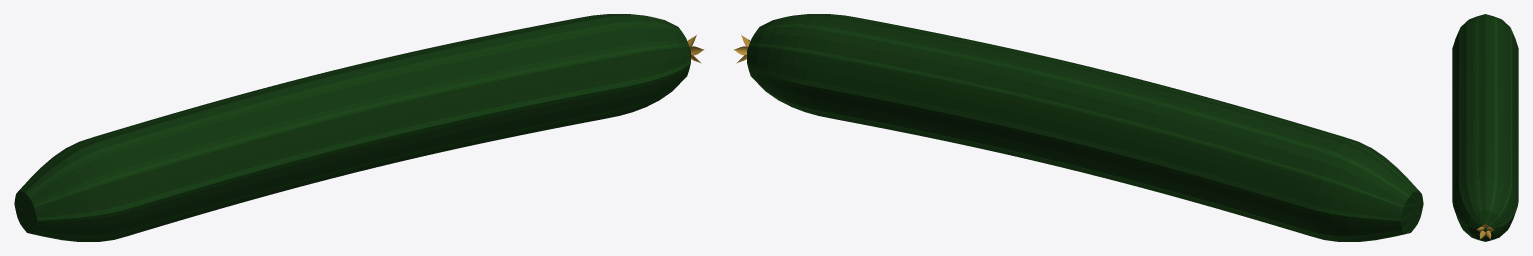
The model's file is fruit_02.obj.
3 views of the same model, side by side, from view 1: azimuth 30°, elevation 25°; view 2: azimuth 150°, elevation 25°; view 3: azimuth 270°, elevation 25° (orthographic). The views are drawn at different scales.
Bounding box in the file's own units: 1.01 × 0.1518 × 0.1395.
1 material, 1 textured.
